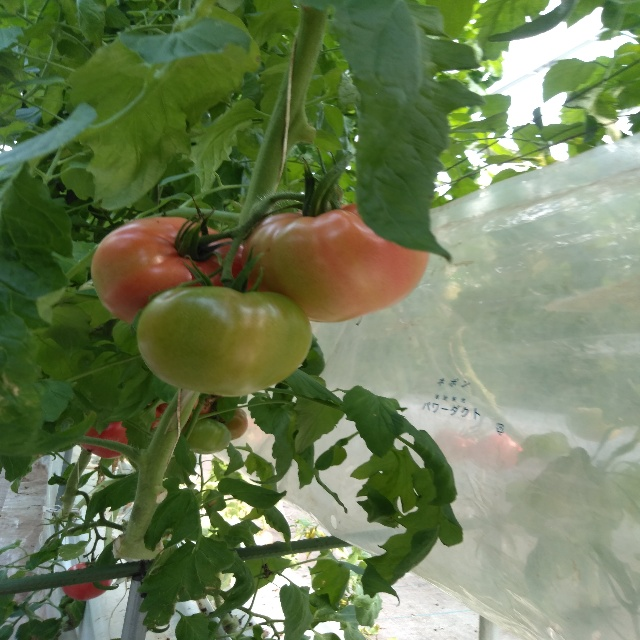b_fully_ripened: (62, 561, 114, 600), (80, 422, 127, 459)
b_green: (136, 287, 313, 398), (182, 419, 232, 455)
b_half_ripened: (242, 202, 430, 323), (90, 217, 257, 328), (218, 407, 248, 441)
